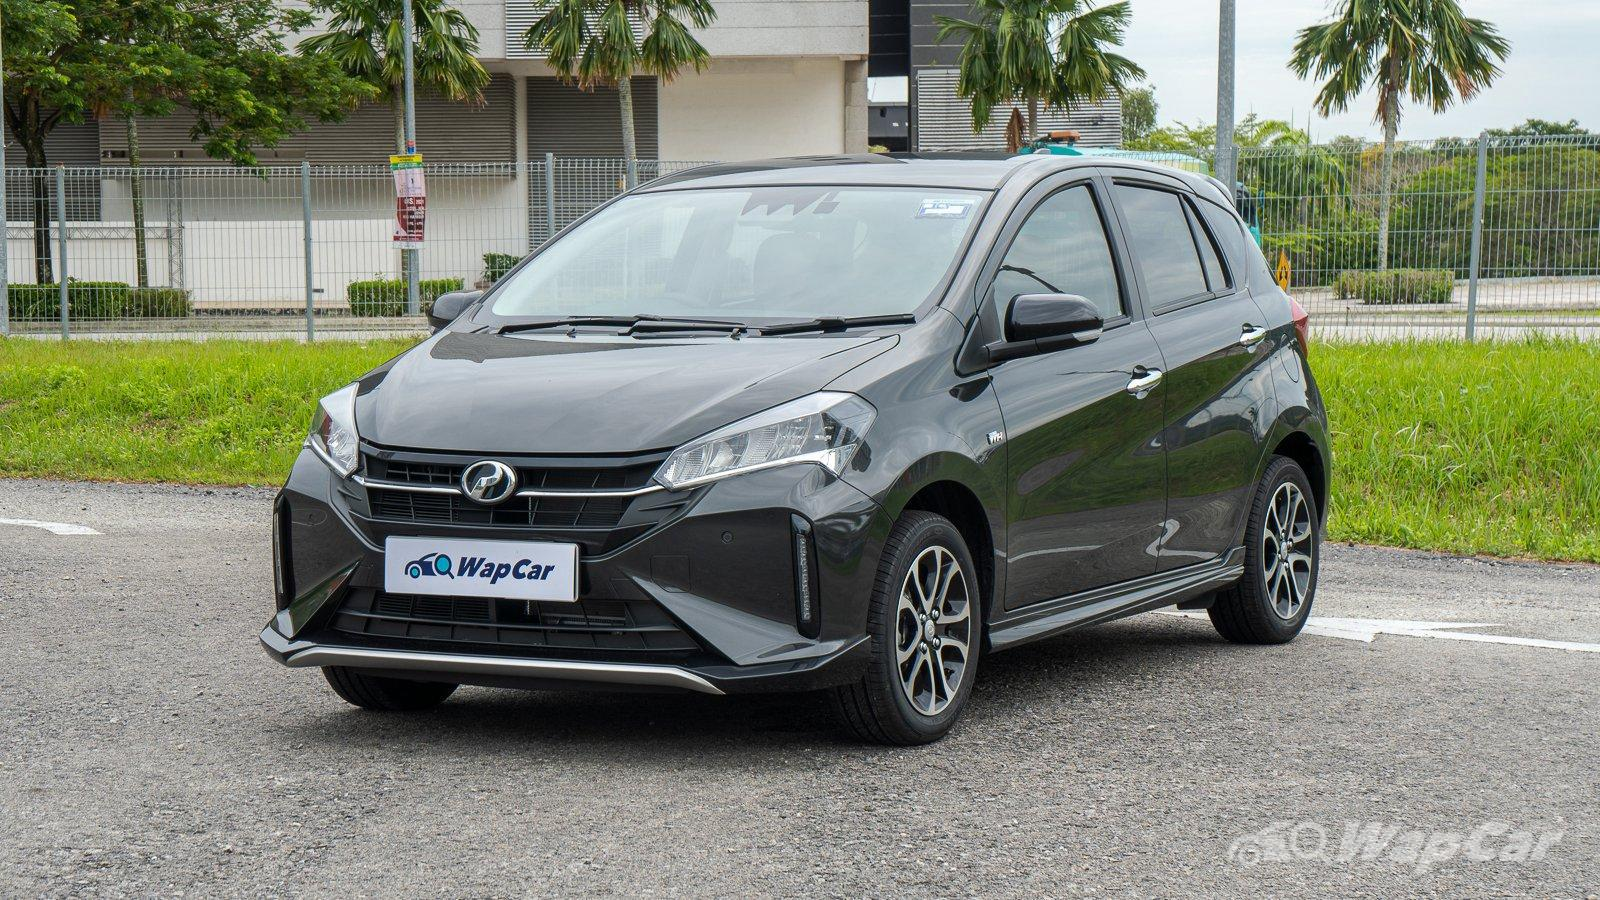Car: (249, 127, 1348, 754)
